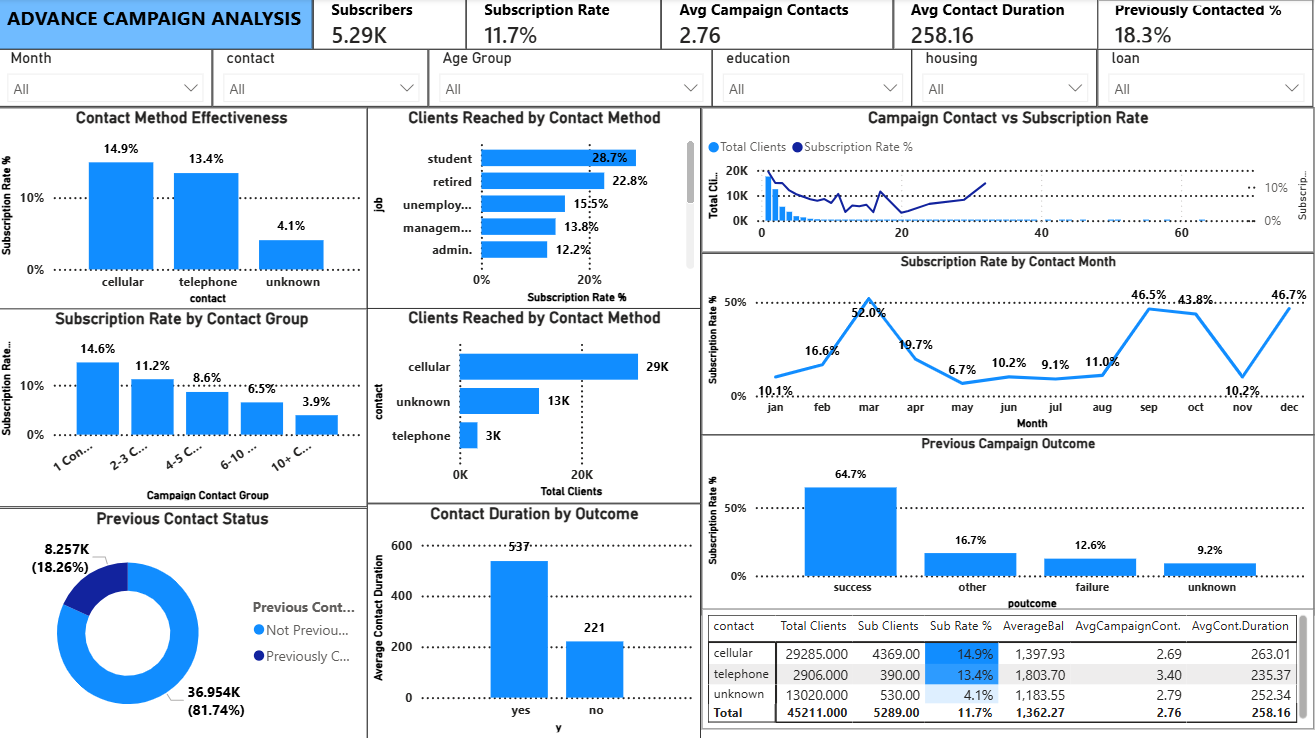

Layout of this report page (visuals, bound fields, positions):
{"tool":"powerbi","page":{"name":"Advance Campaign Analysis","canvas":[1280,720],"ordinal":2},"visuals":[{"type":"cardVisual","fields":{"Data":["FactCampaign.Subscription Rate %"]},"box":[456.7,0,189.3,50.1],"z":0},{"type":"cardVisual","fields":{"Data":["FactCampaign.Average Campaign Contacts"]},"box":[646,0,225.2,50.1],"z":1000},{"type":"cardVisual","fields":{"Data":["FactCampaign.Average Contact Duration"]},"box":[871.2,0,198.6,50.1],"z":2000},{"type":"cardVisual","fields":{"Data":["FactCampaign.Previously Contacted %"]},"box":[1069.9,1.6,209.6,48.5],"z":3000},{"type":"textbox","box":[1.6,0,306.6,50.1],"z":4000},{"type":"clusteredBarChart","title":"Clients Reached by Contact Method","fields":{"Y":["FactCampaign.Total Clients"],"Category":["FactCampaign.contact"]},"box":[361.3,300.3,323.8,190.8],"z":5000},{"type":"clusteredColumnChart","title":"Contact Method Effectiveness","fields":{"Category":["FactCampaign.contact"],"Y":["FactCampaign.Subscription Rate %"]},"box":[0,106.4,361.3,197.1],"z":6000},{"type":"columnChart","title":"Previous Campaign Outcome","fields":{"Category":["FactCampaign.poutcome"],"Y":["FactCampaign.Subscription Rate %"]},"box":[685.1,423.9,594.4,175.2],"z":7000},{"type":"clusteredColumnChart","title":"Subscription Rate by Contact Group","fields":{"Category":["FactCampaign.Campaign Contact Group"],"Y":["FactCampaign.Subscription Rate %"]},"box":[0,301.9,361.3,192.4],"z":8000},{"type":"lineClusteredColumnComboChart","title":"Campaign Contact vs Subscription Rate","fields":{"Category":["FactCampaign.campaign"],"Y":["FactCampaign.Total Clients"],"Y2":["FactCampaign.Subscription Rate %"]},"box":[685.1,106.4,594.4,140.8],"z":9000},{"type":"lineChart","title":"Subscription Rate by Contact Month","fields":{"Category":["DimMonth.Month"],"Y":["FactCampaign.Subscription Rate %"]},"box":[685.1,247.1,594.4,176.7],"z":10000},{"type":"slicer","fields":{"Values":["DimMonth.Month"]},"box":[1.6,50.1,209.6,56.3],"z":11000},{"type":"slicer","fields":{"Values":["FactCampaign.Age Group"]},"box":[420.8,50.1,275.3,56.3],"z":12000},{"type":"slicer","fields":{"Values":["FactCampaign.housing"]},"box":[890,50.1,179.9,56.3],"z":13000},{"type":"slicer","fields":{"Values":["FactCampaign.loan"]},"box":[1069.9,50.1,209.6,56.3],"z":14000},{"type":"cardVisual","fields":{"Data":["FactCampaign.Subscribed Clients"]},"box":[308.1,0,148.6,50.1],"z":15000},{"type":"donutChart","title":"Previous Contact Status","fields":{"Category":["FactCampaign.Previous Contact Status"],"Y":["FactCampaign.Total Clients"]},"box":[1.6,494.3,359.8,225.2],"z":16000},{"type":"clusteredColumnChart","title":"Contact Duration by Outcome","fields":{"Category":["FactCampaign.y"],"Y":["FactCampaign.Average Contact Duration"]},"box":[361.3,491.1,323.8,228.4],"z":17000},{"type":"slicer","fields":{"Values":["FactCampaign.contact"]},"box":[211.2,50.1,209.6,56.3],"z":18000},{"type":"slicer","fields":{"Values":["FactCampaign.education"]},"box":[696,50.1,194,56.3],"z":19000},{"type":"clusteredBarChart","title":"Clients Reached by Contact Method","fields":{"Category":["FactCampaign.job"],"Y":["FactCampaign.Subscription Rate %"]},"box":[361.3,106.4,323.8,195.5],"z":20000},{"type":"pivotTable","fields":{"Rows":["FactCampaign.contact"],"Values":["FactCampaign.Total Clients","FactCampaign.Subscribed Clients","FactCampaign.Subscription Rate %","FactCampaign.Average Balance","FactCampaign.Average Campaign Contacts","FactCampaign.Average Contact Duration"]},"box":[685.1,592.8,594.4,117.3],"z":21000}]}

Visuals, with their boxes in screenshot pixels (x1, y1, x2, y2), scaled from the page's 1280x720 canvas onto the 1315x738 screenshot:
cardVisual - FactCampaign.Subscription Rate %: region(469, 0, 664, 51)
cardVisual - FactCampaign.Average Campaign Contacts: region(664, 0, 895, 51)
cardVisual - FactCampaign.Average Contact Duration: region(895, 0, 1099, 51)
cardVisual - FactCampaign.Previously Contacted %: region(1099, 2, 1314, 51)
textbox: region(2, 0, 317, 51)
"Clients Reached by Contact Method" clusteredBarChart: region(371, 308, 704, 503)
"Contact Method Effectiveness" clusteredColumnChart: region(0, 109, 371, 311)
"Previous Campaign Outcome" columnChart: region(704, 434, 1314, 614)
"Subscription Rate by Contact Group" clusteredColumnChart: region(0, 309, 371, 507)
"Campaign Contact vs Subscription Rate" lineClusteredColumnComboChart: region(704, 109, 1314, 253)
"Subscription Rate by Contact Month" lineChart: region(704, 253, 1314, 434)
slicer - DimMonth.Month: region(2, 51, 217, 109)
slicer - FactCampaign.Age Group: region(432, 51, 715, 109)
slicer - FactCampaign.housing: region(914, 51, 1099, 109)
slicer - FactCampaign.loan: region(1099, 51, 1314, 109)
cardVisual - FactCampaign.Subscribed Clients: region(317, 0, 469, 51)
"Previous Contact Status" donutChart: region(2, 507, 371, 737)
"Contact Duration by Outcome" clusteredColumnChart: region(371, 503, 704, 737)
slicer - FactCampaign.contact: region(217, 51, 432, 109)
slicer - FactCampaign.education: region(715, 51, 914, 109)
"Clients Reached by Contact Method" clusteredBarChart: region(371, 109, 704, 309)
pivotTable - FactCampaign.contact x FactCampaign.Total Clients: region(704, 608, 1314, 728)
